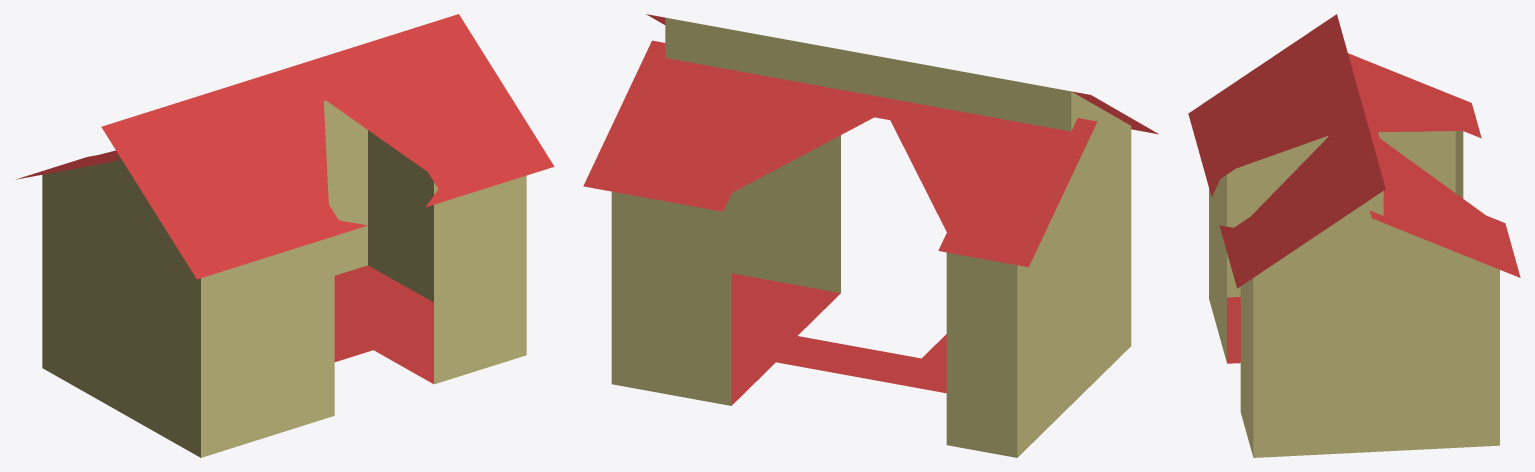
3 renders of one model, left to right at view 1: azimuth 30°, elevation 25°; view 2: azimuth 150°, elevation 25°; view 3: azimuth 270°, elevation 25°, orthographic. The views are drawn at different scales.
Bounding box in the file's own units: 18.1 × 13.43 × 12.04.
